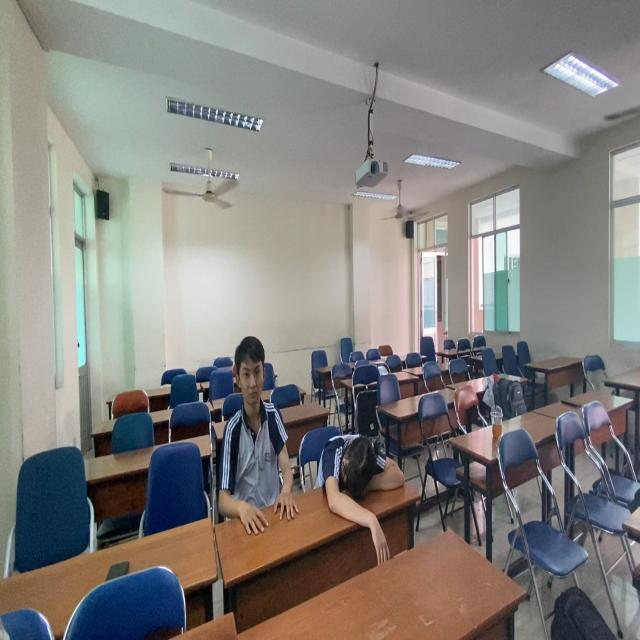sleep: (311, 417, 412, 515)
